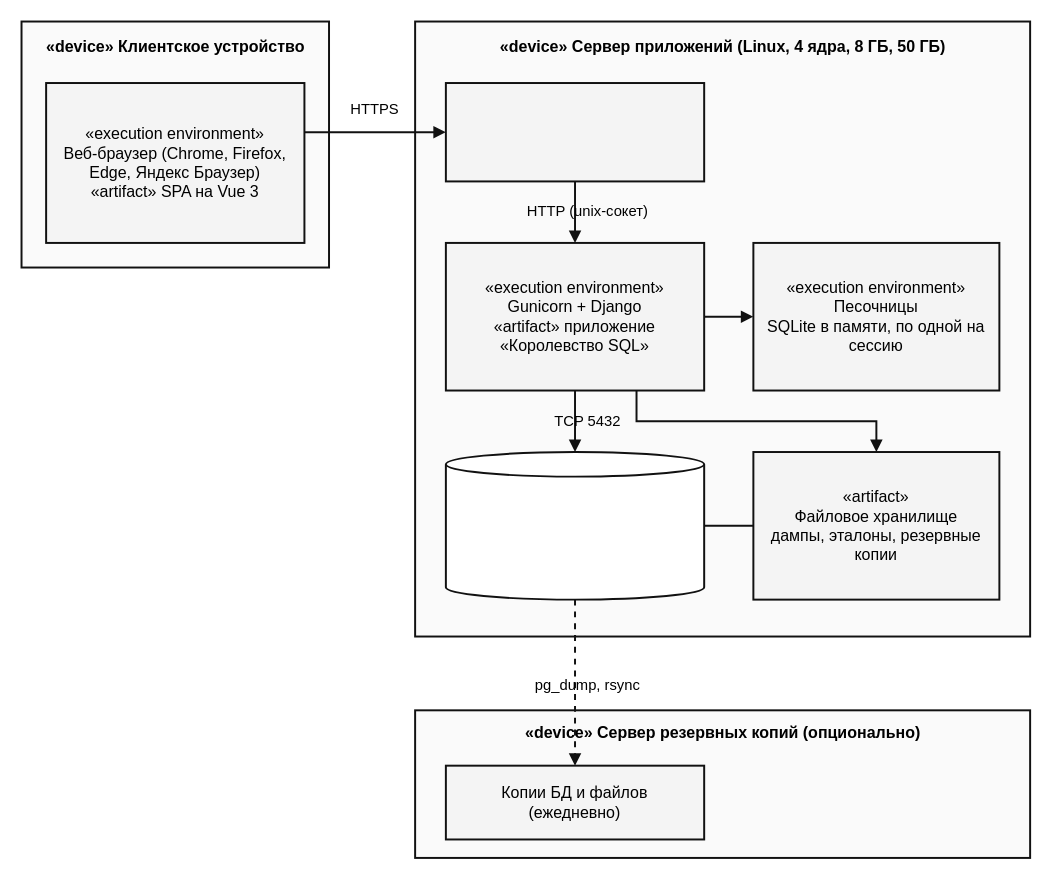
This 1053x881 diagram has some shape labels left out. The shapes that lost their labels are listed below. From the top down, each one's centre as x and y in pixels, then its label:
pixel 574 131: «execution environment» Nginx TLS, статика, прокси
pixel 574 525: «execution environment» PostgreSQL 15 БД платформы
